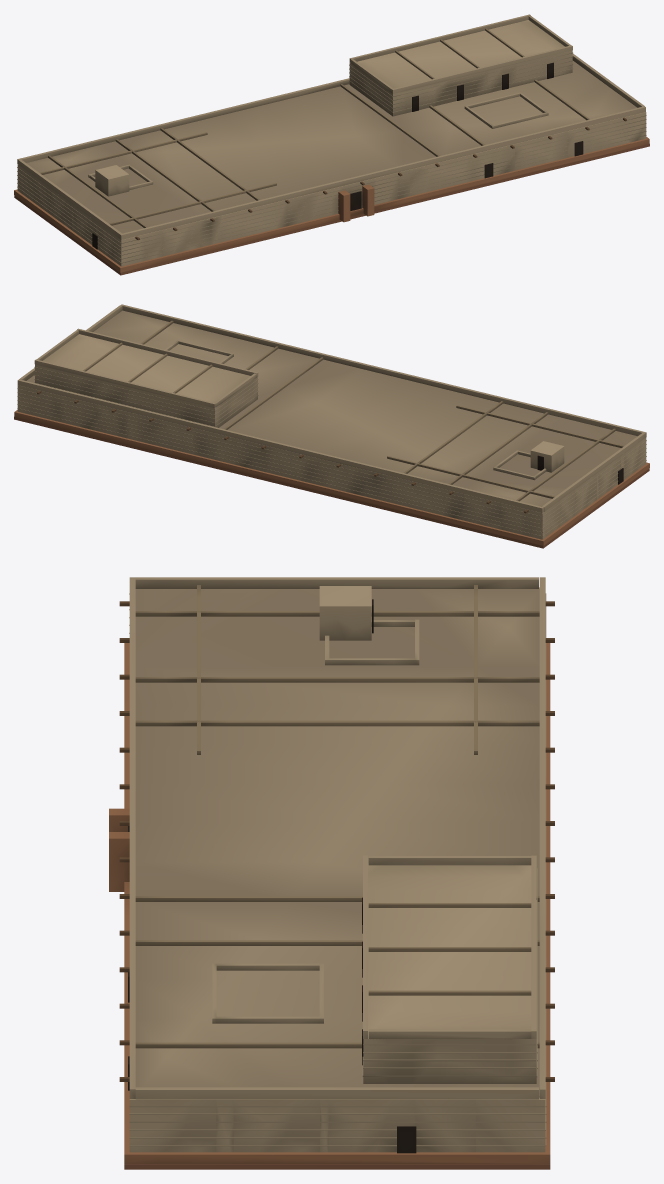
The model's file is college.glb.
The picture shows the model from 3 angles, top to bottom: view 1: azimuth 30°, elevation 25°; view 2: azimuth 150°, elevation 25°; view 3: azimuth 270°, elevation 25°; orthographic projection. The views are drawn at different scales.
Visible parts, largest first — view 1: p2_roofs and upper storey, p0_walls and courts; view 2: p2_roofs and upper storey, p0_walls and courts; view 3: p2_roofs and upper storey, p0_walls and courts.
Part boxes in pixels (box(x1,y1,x2,y2)): p2_roofs and upper storey: box(17, 14, 645, 240); p0_walls and courts: box(14, 92, 649, 275); p2_roofs and upper storey: box(17, 304, 646, 513); p0_walls and courts: box(14, 340, 649, 548); p2_roofs and upper storey: box(119, 577, 554, 1099); p0_walls and courts: box(109, 587, 550, 1169).
Size of the model in its own units: 70.63 by 7.75 by 25.77.
